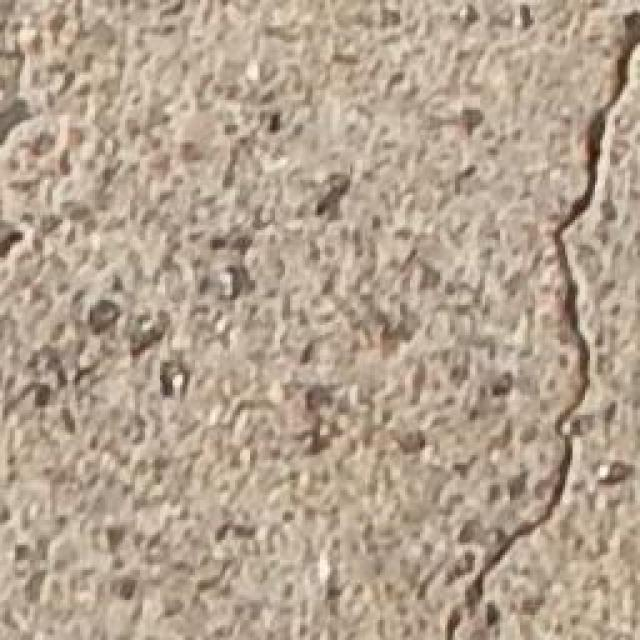concrete-crack: (432, 6, 640, 640)
